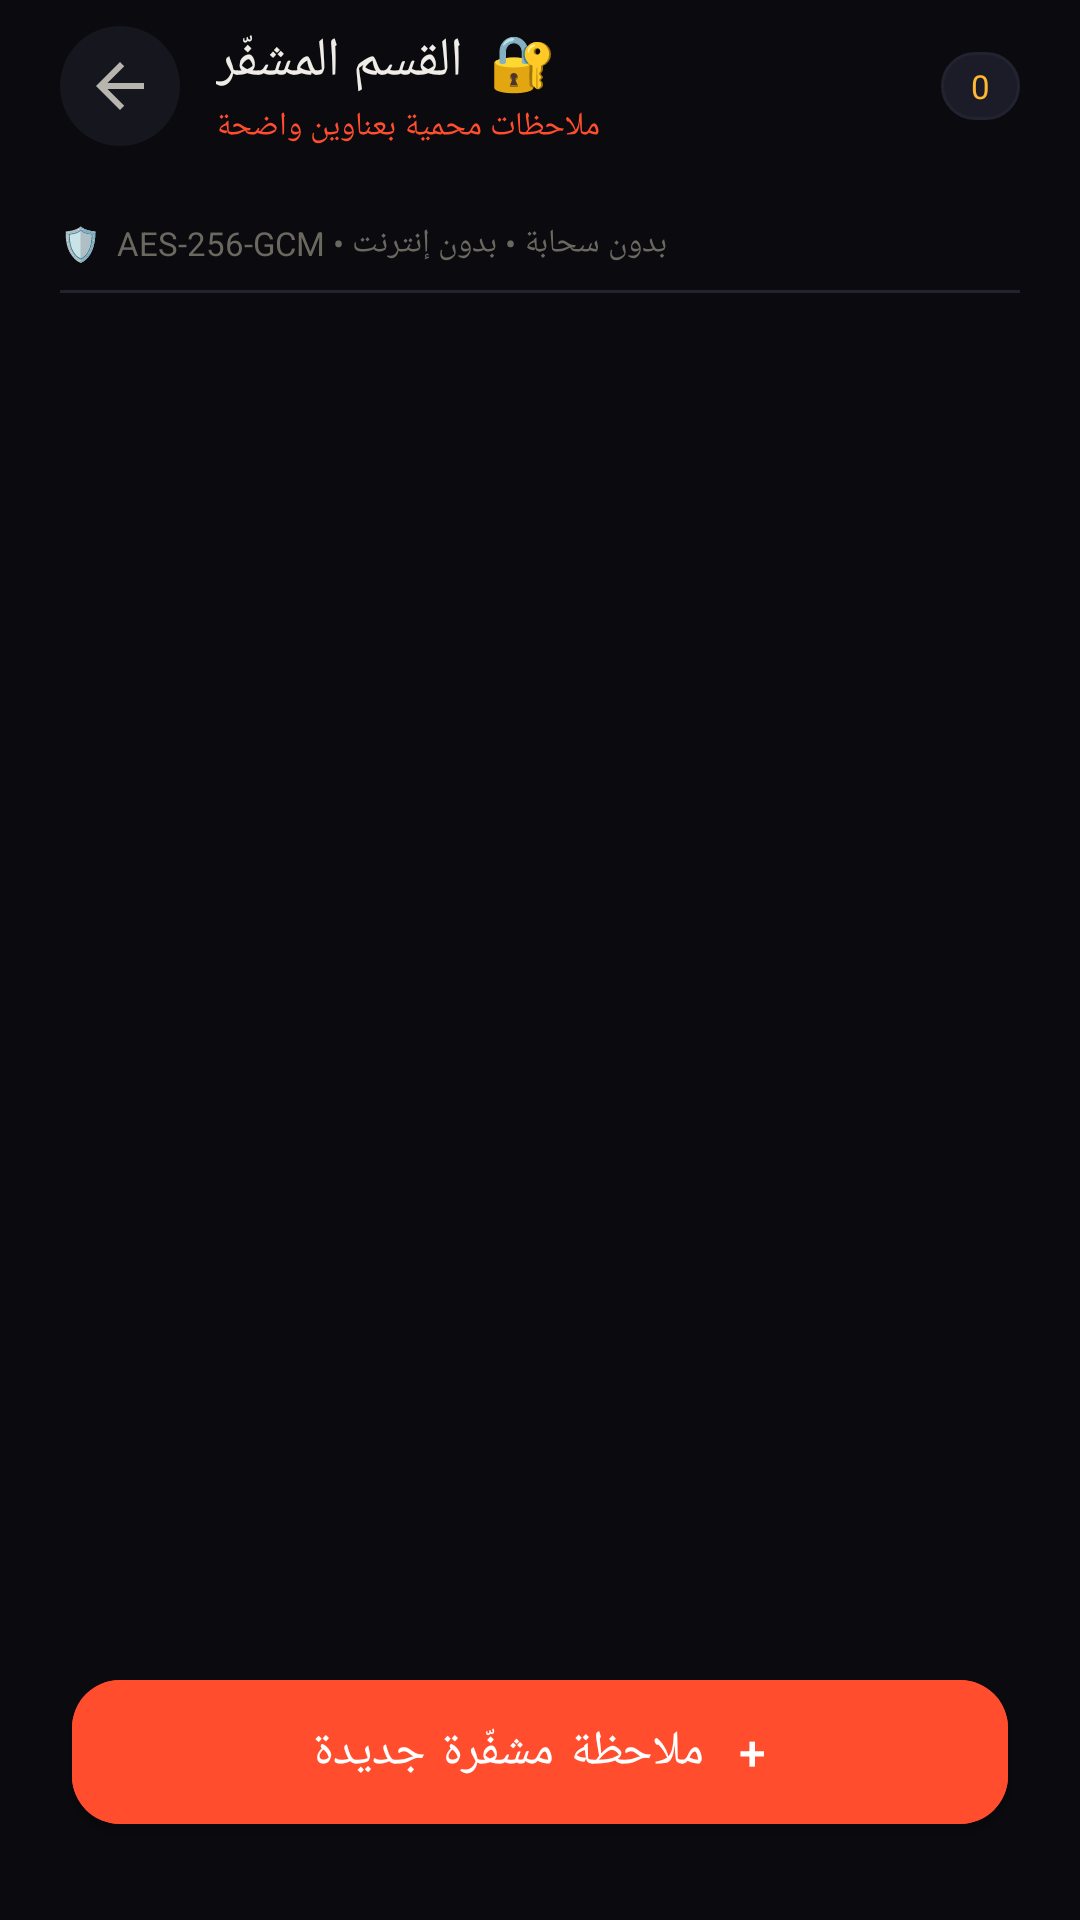

Icon bounding boxes for this 1080×1920 phone screenshot, format (x1, y1, x2, y2):
back: (60, 26, 180, 146)
